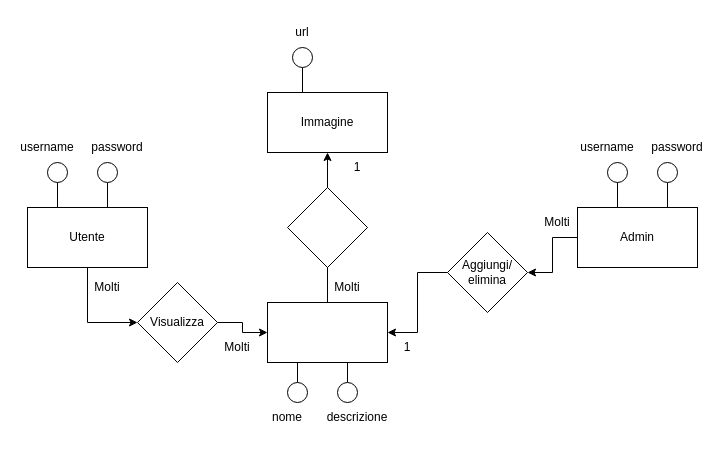
Some shapes in this 724 by 449 pixel diagram are drawn without their labels. The shapes that lost their labels are listed below. From the top down, each one's centre as x and y in pixels, then its label:
At (327,227): "Contiene".
At (327,332): "POI".
